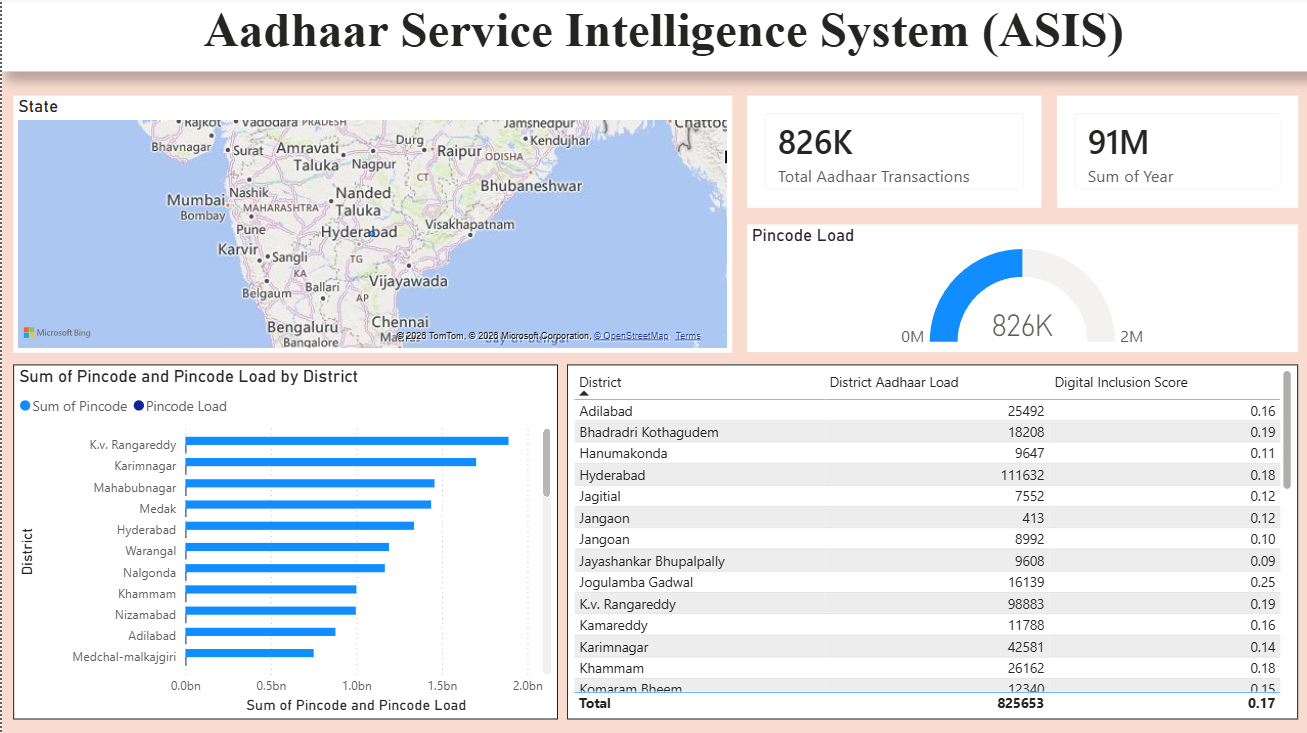

The page's visual inventory and layout, read from the dashboard file:
{"tool":"powerbi","page":{"name":"UIDAI 2","canvas":[1280,720],"ordinal":1},"visuals":[{"type":"tableEx","fields":{"Values":["UIDAI DATA.District","UIDAI DATA.District Aadhaar Load","UIDAI DATA.Digital Inclusion Score"]},"box":[553,359.5,714.9,347.2],"z":0},{"type":"textbox","box":[0,0,1280.3,72.7],"z":1000},{"type":"clusteredBarChart","fields":{"Category":["UIDAI DATA.District"],"Y":["Sum(UIDAI DATA.Pincode)","UIDAI DATA.Pincode Load"]},"box":[11,359.5,532.4,347.2],"z":2000},{"type":"cardVisual","fields":{"Data":["UIDAI DATA.Total Aadhaar Transactions"]},"box":[728.6,96.1,288.2,109.8],"z":3000},{"type":"cardVisual","fields":{"Data":["Sum(UIDAI DATA.Year)"]},"box":[1031.9,96.1,236,109.8],"z":4000},{"type":"gauge","fields":{"Y":["UIDAI DATA.Pincode Load"]},"box":[728.6,222.3,539.3,124.9],"z":5000},{"type":"map","fields":{"Category":["UIDAI DATA.State"]},"box":[11,96.1,702.6,251.1],"z":6000}]}

Visuals, with their boxes in screenshot pixels (x1, y1, x2, y2), scaled from the page's 1280x720 canvas onto the 1307x733 screenshot:
tableEx - UIDAI DATA.District x UIDAI DATA.District Aadhaar Load: bbox(565, 366, 1295, 719)
textbox: bbox(0, 0, 1306, 74)
clusteredBarChart - UIDAI DATA.District x Sum(UIDAI DATA.Pincode): bbox(11, 366, 555, 719)
cardVisual - UIDAI DATA.Total Aadhaar Transactions: bbox(744, 98, 1038, 210)
cardVisual - Sum(UIDAI DATA.Year): bbox(1054, 98, 1295, 210)
gauge - UIDAI DATA.Pincode Load: bbox(744, 226, 1295, 353)
map - UIDAI DATA.State: bbox(11, 98, 729, 353)
